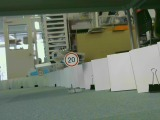speed_20: (63, 51, 80, 68)
